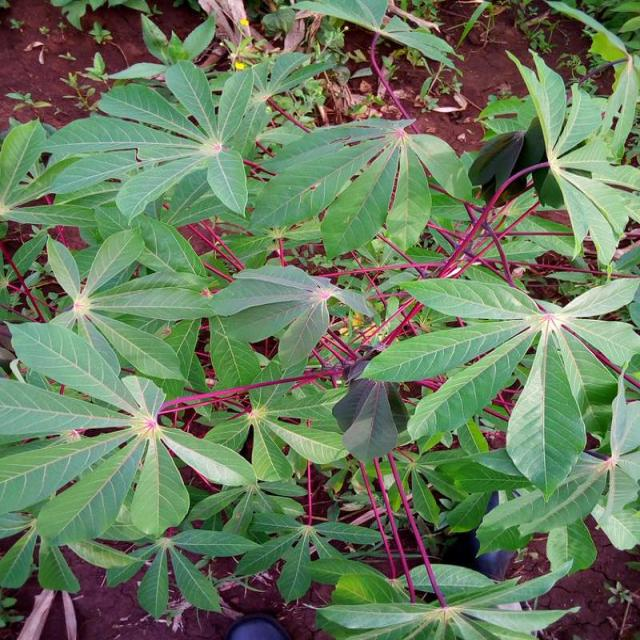cassava leaf: (0, 6, 638, 636), (504, 322, 587, 500)
